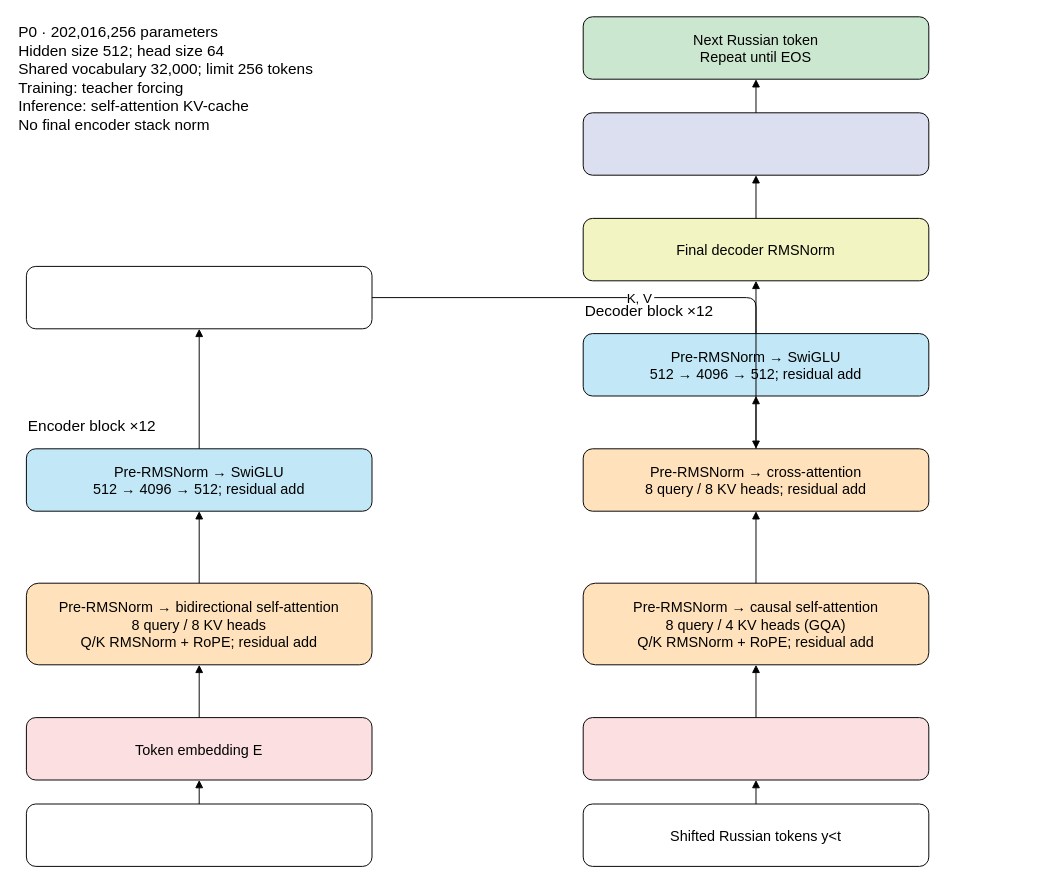
Some shapes in this 1050 by 883 pixel diagram are drawn without their labels. The shapes that lost their labels are listed below. From the top down, each one's centre as x and y in pixels, then its label:
At point 755,143: "Tied projection h Eᵀ 32,000 vocabulary logits".
At point 198,297: "Encoder memory Hx".
At point 755,748: "Token embedding E (shared)".
At point 198,834: "Kazakh source tokens x".
